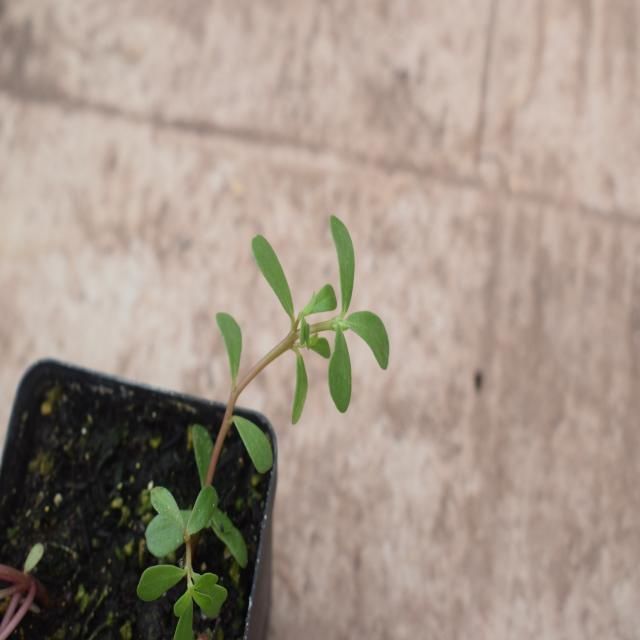purslane: (190, 213, 422, 518)
